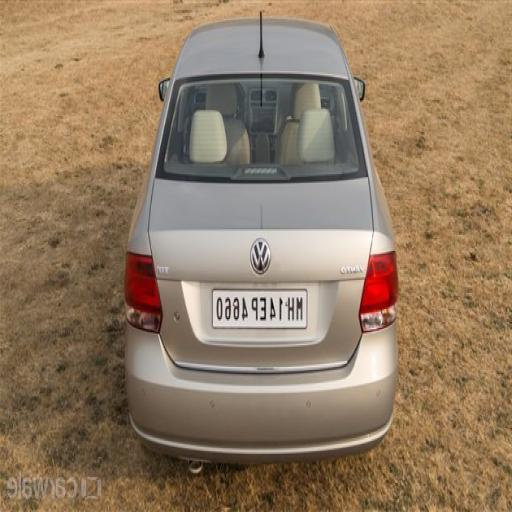License: (215, 291, 308, 327)
